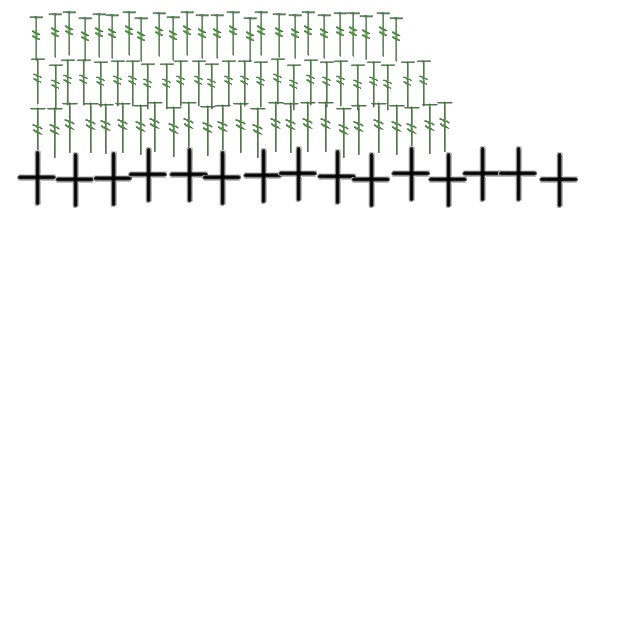double: (14, 150, 58, 208), (52, 152, 96, 210), (199, 150, 243, 208), (240, 148, 284, 206), (275, 146, 319, 204), (348, 152, 392, 210), (388, 146, 432, 204), (425, 152, 469, 210), (459, 146, 503, 204), (495, 146, 539, 204), (536, 152, 580, 210), (90, 152, 134, 208), (125, 148, 169, 204), (166, 148, 210, 204), (314, 150, 358, 206)
fan: (28, 105, 48, 161), (45, 105, 65, 161), (60, 100, 80, 156), (81, 100, 101, 156), (96, 101, 116, 157), (113, 100, 133, 156), (131, 102, 151, 158), (145, 99, 165, 155), (164, 104, 184, 160), (179, 99, 199, 155), (198, 103, 218, 159), (213, 102, 233, 158), (231, 100, 251, 156), (248, 105, 268, 161), (266, 99, 286, 155), (281, 100, 301, 156), (298, 99, 318, 155), (316, 99, 336, 155), (334, 105, 354, 161), (349, 102, 369, 158), (369, 100, 389, 156), (387, 102, 407, 158), (402, 104, 422, 160), (420, 101, 440, 157), (435, 99, 455, 155), (29, 56, 47, 108), (47, 62, 65, 114), (109, 58, 127, 110), (124, 58, 142, 110), (172, 58, 190, 110), (190, 58, 208, 110), (220, 58, 238, 110), (236, 58, 254, 110), (269, 56, 287, 108), (285, 62, 303, 114), (332, 58, 350, 110), (349, 62, 367, 114), (379, 62, 397, 114), (415, 58, 433, 110), (59, 58, 77, 108), (75, 58, 93, 108), (92, 60, 110, 110), (139, 62, 157, 112), (158, 62, 176, 112), (203, 62, 221, 112), (252, 60, 270, 110), (302, 58, 320, 108), (318, 60, 336, 110), (365, 60, 383, 110), (399, 60, 417, 110), (47, 12, 63, 60), (61, 10, 77, 58), (77, 16, 93, 64), (91, 12, 107, 60), (121, 10, 137, 58), (133, 16, 149, 64), (179, 10, 195, 58), (225, 10, 241, 58), (242, 16, 258, 64), (253, 10, 269, 58), (271, 12, 287, 60), (300, 10, 316, 58), (358, 14, 374, 62), (388, 16, 404, 64), (28, 16, 44, 62), (104, 14, 120, 60), (151, 12, 167, 58), (165, 16, 181, 62), (194, 14, 210, 60), (209, 14, 225, 60), (287, 14, 303, 60), (316, 14, 332, 60), (332, 12, 348, 58), (345, 12, 361, 58), (375, 12, 391, 58)
